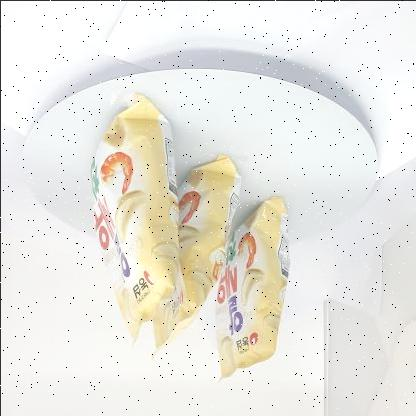Others: (73, 78, 300, 390)
